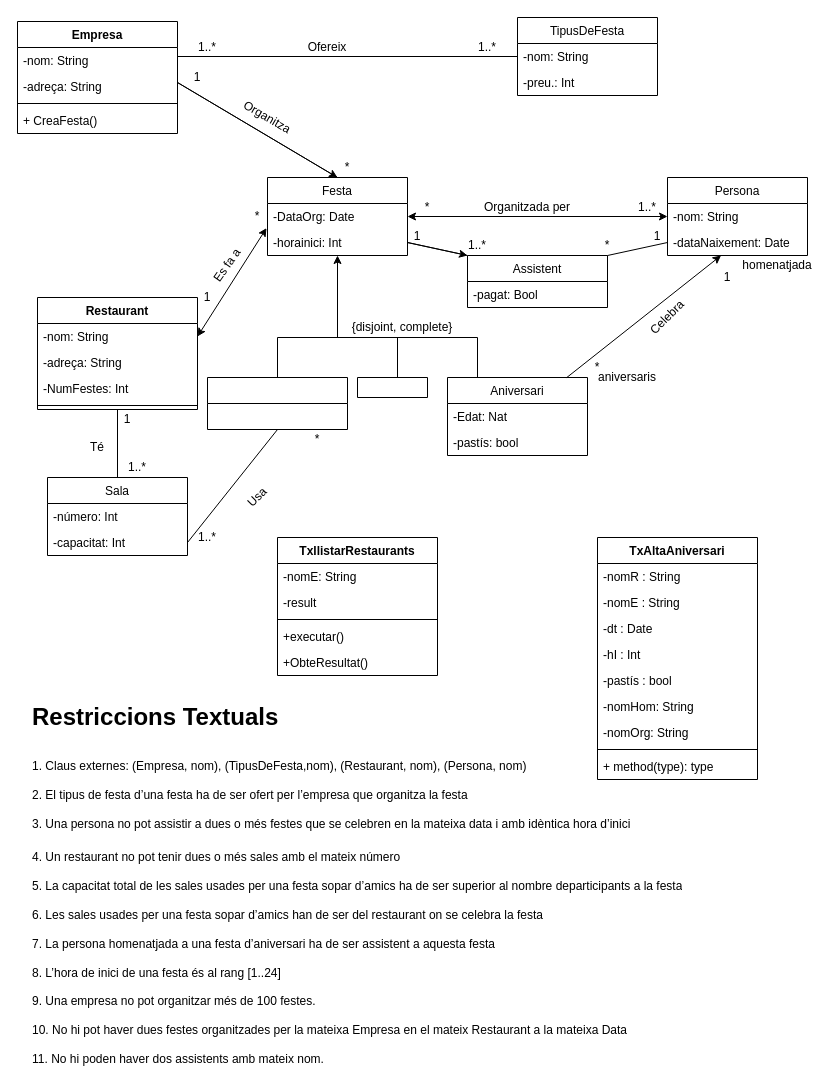
Some shapes in this 829 by 1085 pixel diagram are drawn without their labels. The shapes that lost their labels are listed below. From the top down, each one's centre as x and y in pixels, then its label:
At point 277,403: "SoparD'Amics".
At point 392,387: "Altres".
